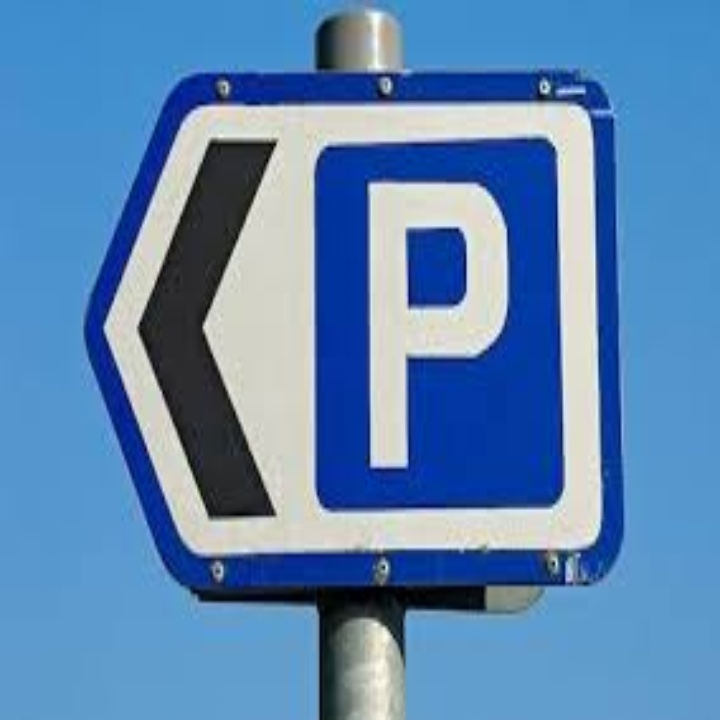parking: (356, 164, 515, 483)
